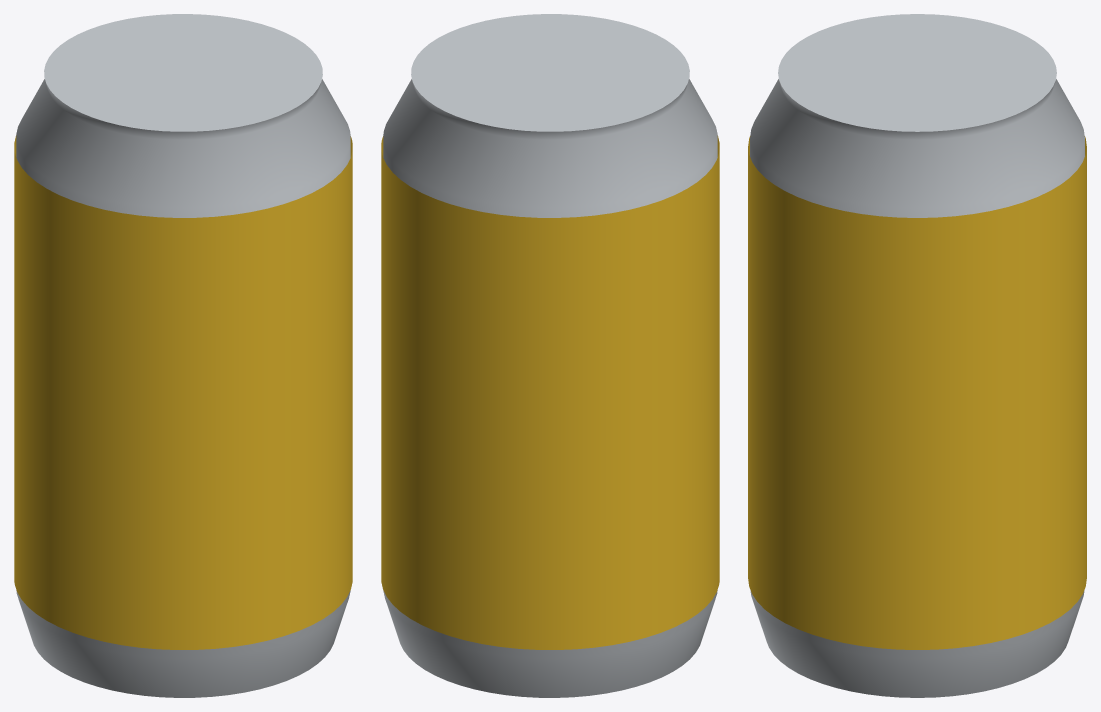
Rendered from lata-amarelo.glb.
The picture shows the model from 3 angles, left to right: view 1: azimuth 30°, elevation 25°; view 2: azimuth 150°, elevation 25°; view 3: azimuth 270°, elevation 25°; orthographic projection.
Parts seen in each view (by area): view 1: lata-amarelo; view 2: lata-amarelo; view 3: lata-amarelo.
Part boxes in pixels (box(x1,y1,x2,y2)): lata-amarelo: box(14, 14, 352, 697); lata-amarelo: box(381, 14, 719, 697); lata-amarelo: box(748, 14, 1086, 697).
Size of the model in its own units: 0.0668 by 0.122 by 0.0668.
